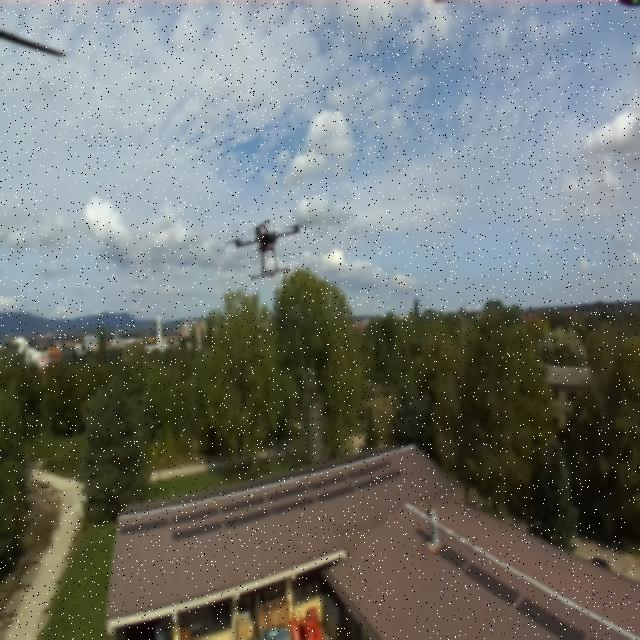UAV: (221, 208, 310, 285)
